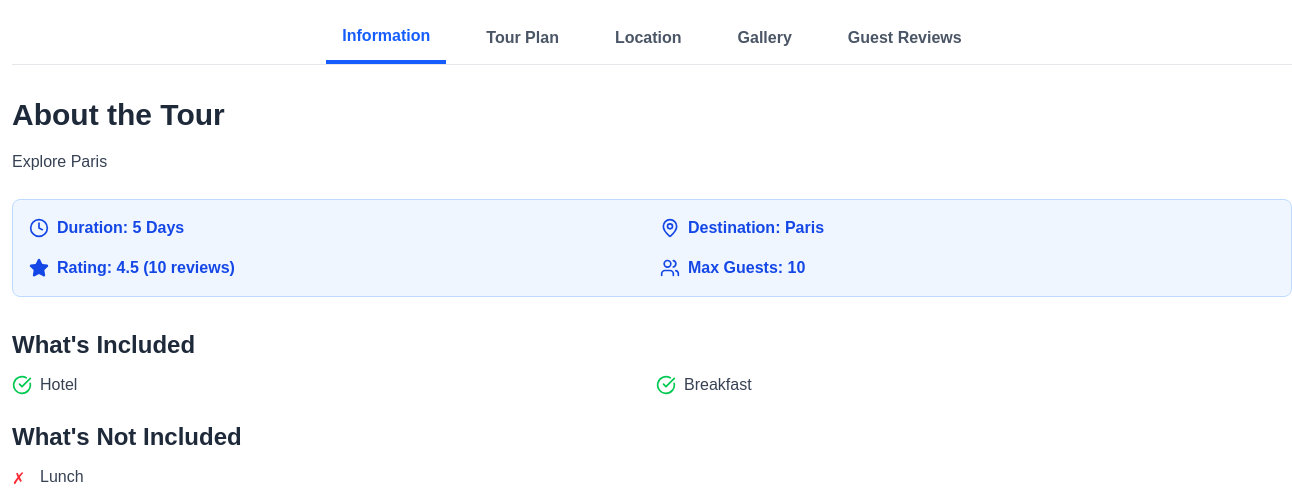
Scenario: TourDetailTabs Component › Gallery Tab › should render empty gallery message when no images
Click the button "Gallery": point(765, 38) [722,12,808,64]
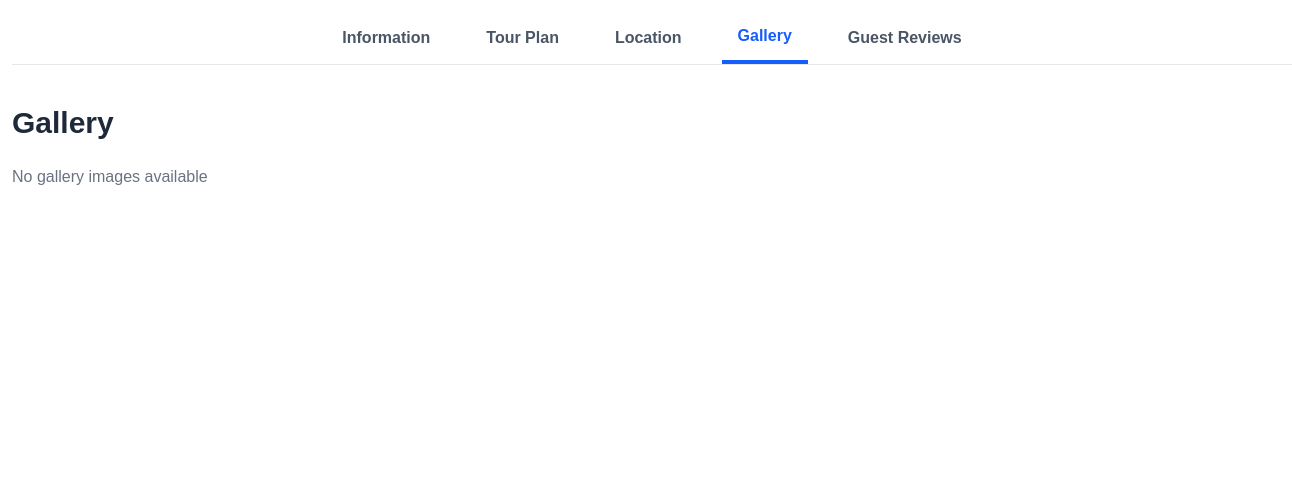
Check: the text "No gallery images available" is shown, box [12,168,208,185]
